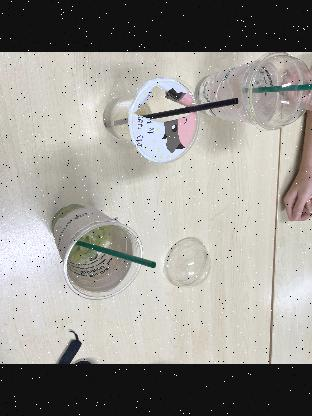Others: (42, 205, 142, 301), (197, 55, 299, 135), (103, 78, 198, 158), (255, 54, 312, 128), (104, 96, 239, 127), (162, 236, 214, 294), (72, 240, 158, 271), (245, 85, 312, 93)
